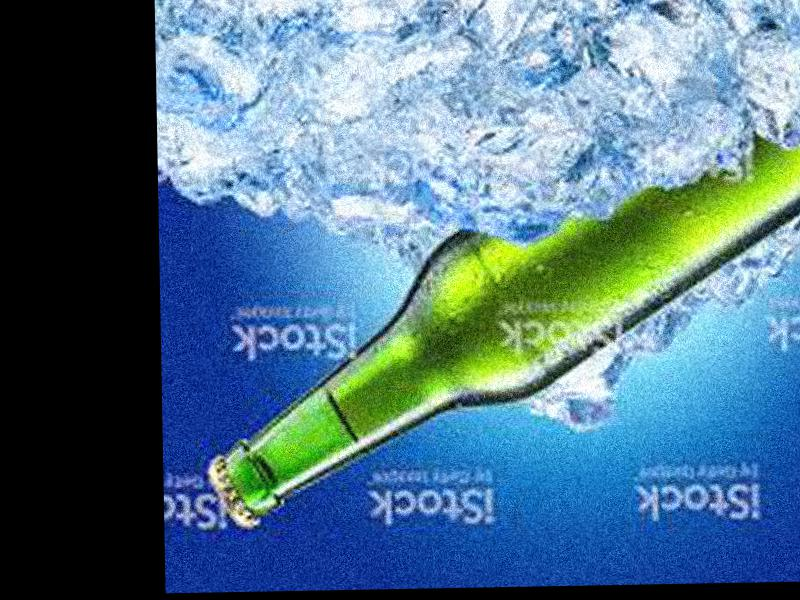Beer: (195, 122, 800, 531)
